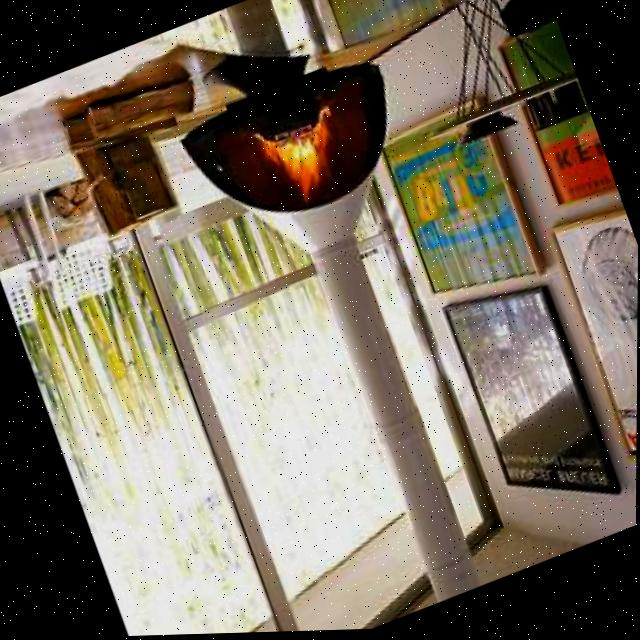Fire: (249, 91, 356, 215)
